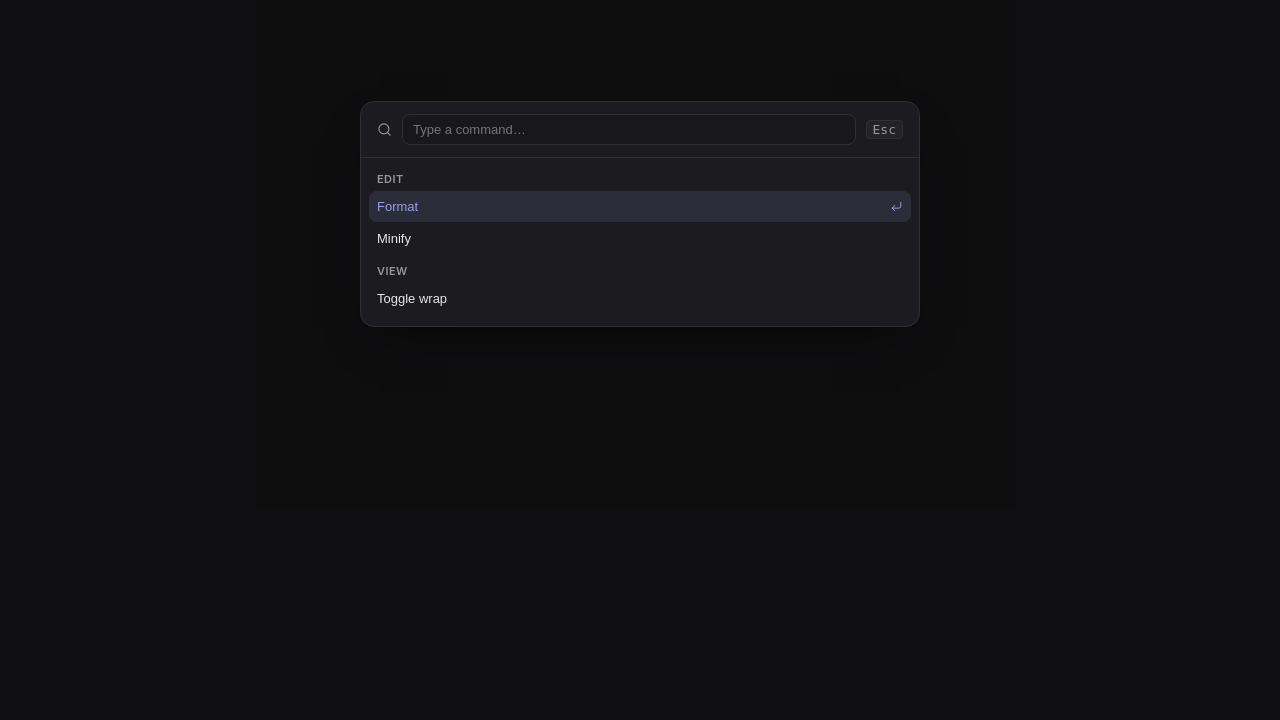
CommandBar › shows an empty state when nothing matches
Step 1. Type "zzz-nope" into the field with placeholder "Type a command…" → (629, 129), box [402,114,856,145]
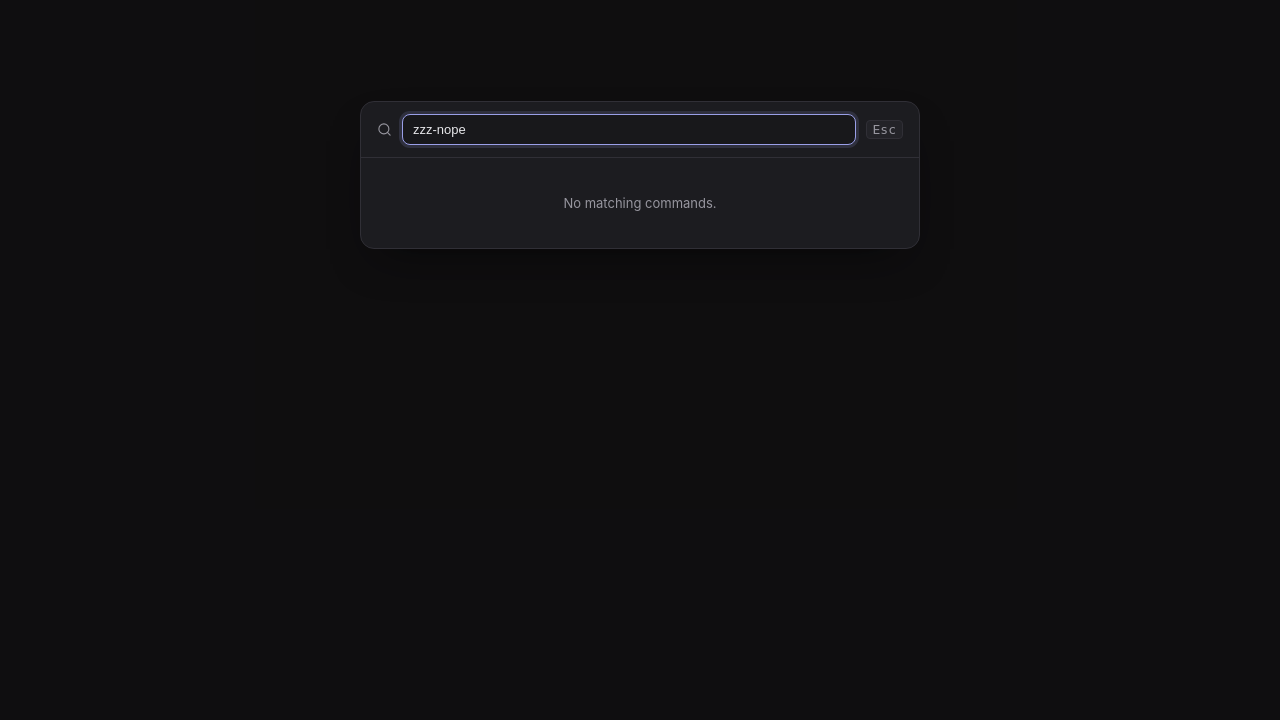
Expected: the text "No matching commands." is shown, [563,195,717,211]
